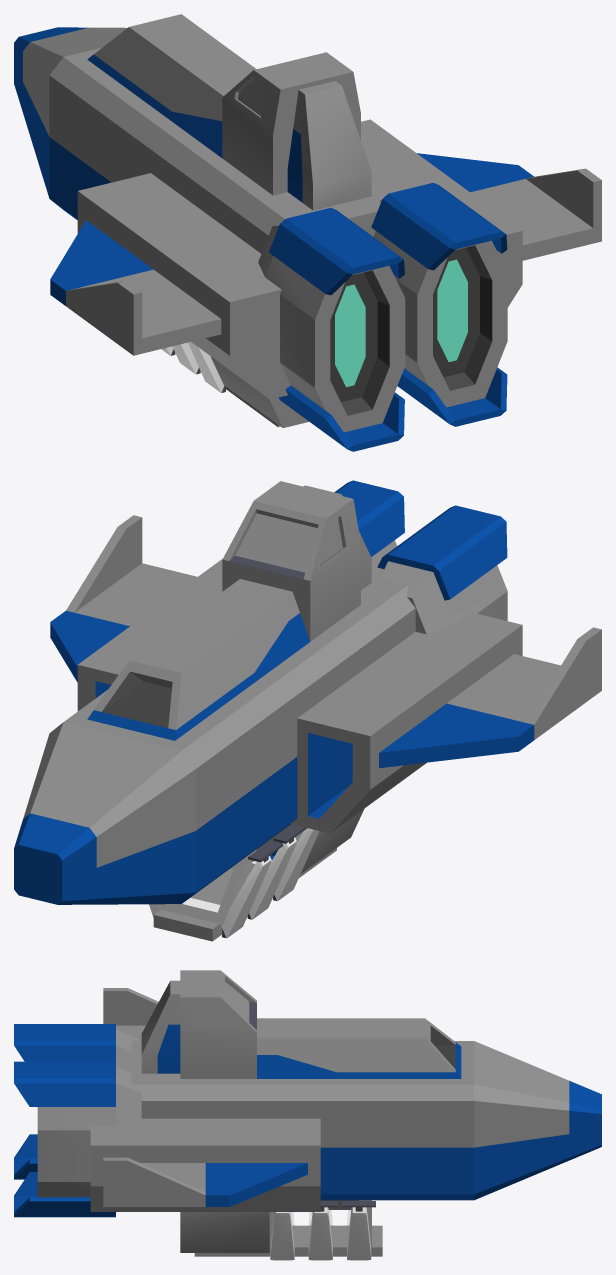
Rendered from carrier.fbx.
3 renders of one model, top to bottom at view 1: azimuth 30°, elevation 25°; view 2: azimuth 150°, elevation 25°; view 3: azimuth 270°, elevation 25°, orthographic. The views are drawn at different scales.
Visible parts, largest first — view 1: engine_high_7, engine_high_6, plane_body_1, engine_corner_5, wing_endHigh_28, engine_intake_8, wing_endHigh_29, windshield_default_10, ship_frontSquare_11, plane_cockpitNose%_12, engine_corner_4, engine_barrelTop_20 (+1 smaller); view 2: plane_cockpitNose%_12, plane_body_1, engine_corner_5, engine_intake_8, windshield_default_10, wing_endHigh_28, engine_high_7, wing_endHigh_29, engine_corner_4, engine_high_6, air_vent_21, ship_cargoOpen_17 (+4 smaller); view 3: plane_body_1, plane_cockpitNose%_12, engine_corner_4, engine_high_6, engine_intake_8, wing_endHigh_29, windshield_default_10, engine_high_7, engine_barrelTop_20, ship_frontSquare_11, wing_endHigh_28, air_vent_21 (+4 smaller).
Boxes of the visible parts, x1,y1,x2,y2 form: engine_high_7: [258, 207, 405, 451]; engine_high_6: [371, 182, 507, 426]; plane_body_1: [49, 47, 402, 253]; engine_corner_5: [77, 173, 290, 399]; wing_endHigh_28: [50, 220, 221, 355]; engine_intake_8: [87, 14, 256, 157]; wing_endHigh_29: [417, 153, 601, 260]; windshield_default_10: [222, 52, 360, 195]; ship_frontSquare_11: [287, 81, 371, 210]; plane_cockpitNose%_12: [14, 27, 126, 197]; engine_corner_4: [361, 119, 522, 307]; engine_barrelTop_20: [210, 356, 308, 427]; plane_cockpitNose%_12: [14, 722, 195, 904]; plane_body_1: [64, 566, 415, 901]; engine_corner_5: [291, 612, 522, 833]; engine_intake_8: [87, 579, 309, 740]; windshield_default_10: [222, 481, 360, 641]; wing_endHigh_28: [379, 627, 601, 768]; engine_high_7: [377, 505, 507, 634]; wing_endHigh_29: [50, 515, 197, 682]; engine_corner_4: [77, 559, 222, 711]; engine_high_6: [334, 480, 404, 567]; air_vent_21: [153, 848, 336, 941]; ship_cargoOpen_17: [156, 824, 303, 924]; plane_body_1: [116, 1041, 474, 1200]; plane_cockpitNose%_12: [474, 1041, 601, 1199]; engine_corner_4: [90, 1118, 320, 1211]; engine_high_6: [14, 1061, 141, 1217]; engine_intake_8: [257, 1018, 461, 1078]; wing_endHigh_29: [103, 1157, 307, 1206]; windshield_default_10: [180, 970, 256, 1078]; engine_high_7: [14, 1024, 140, 1179]; engine_barrelTop_20: [180, 1212, 269, 1252]; ship_frontSquare_11: [141, 980, 180, 1073]; wing_endHigh_28: [103, 988, 158, 1037]; air_vent_21: [194, 1225, 382, 1256].
Bounding box in the file's own units: 32 × 22.8 × 46.
